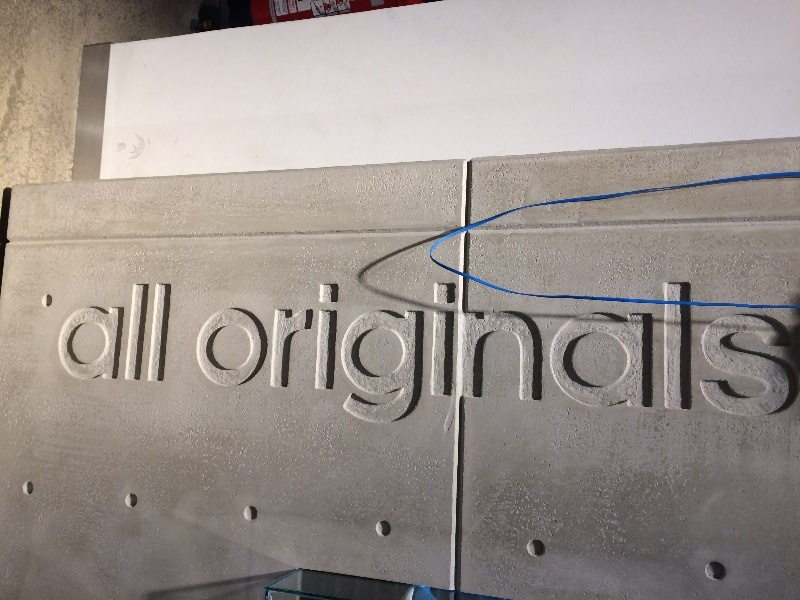text: (225, 255, 240, 447), (241, 255, 256, 447), (257, 255, 272, 447), (273, 255, 288, 447), (289, 255, 304, 447), (305, 255, 320, 447), (321, 255, 336, 447), (337, 255, 352, 447), (353, 255, 368, 447), (369, 255, 384, 447), (385, 255, 400, 447), (401, 255, 416, 447), (417, 255, 432, 447), (433, 255, 448, 447), (449, 255, 464, 447), (465, 255, 480, 447), (481, 255, 496, 447), (497, 255, 512, 447), (513, 255, 528, 447), (529, 255, 544, 447), (545, 255, 560, 447), (561, 255, 576, 447), (577, 255, 592, 447), (593, 255, 608, 447), (609, 255, 624, 447), (625, 255, 640, 447), (641, 255, 656, 447), (657, 255, 672, 447), (673, 255, 688, 447), (689, 255, 704, 447), (705, 255, 720, 447), (721, 255, 736, 447), (737, 255, 752, 447), (753, 255, 768, 447), (769, 255, 784, 447), (211, 255, 224, 447), (785, 255, 794, 447), (81, 281, 96, 382), (97, 281, 112, 382), (113, 281, 128, 382), (129, 281, 144, 382), (145, 281, 160, 382), (66, 281, 80, 382), (161, 281, 167, 382)
